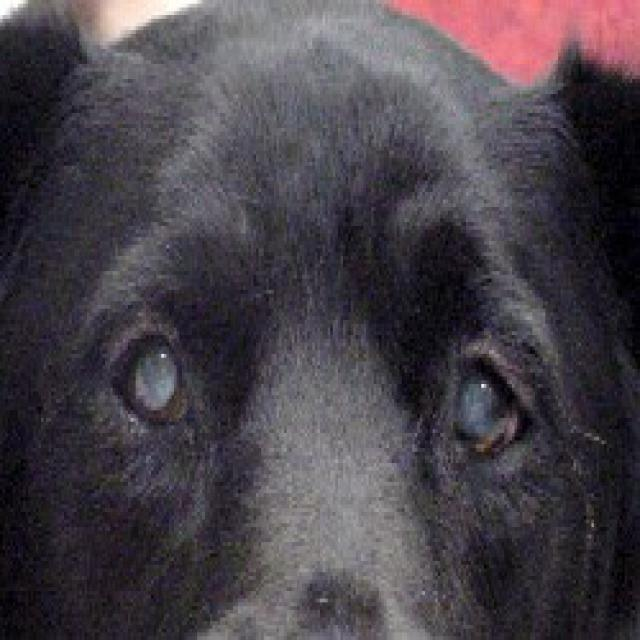eye: (448, 346, 539, 469), (107, 326, 198, 434)
